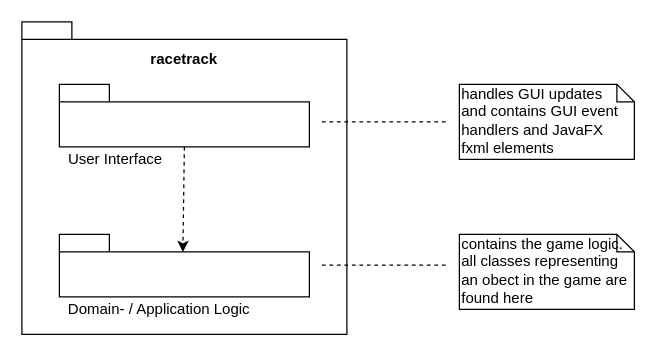
Some shapes in this 656 by 356 pixel diagram are drawn without their labels. The centre of each missing label's shape, as x and y in pixels:
model: point (183, 265)
view: point (183, 115)
